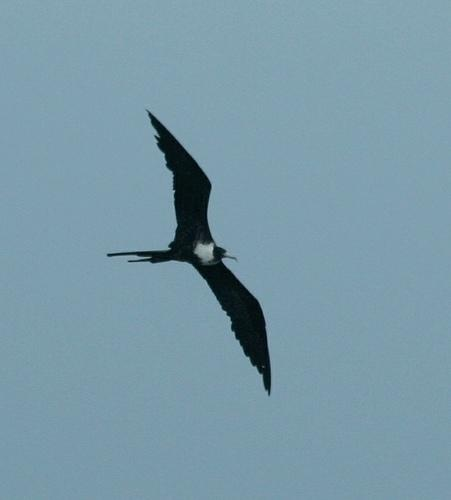bird: (103, 99, 273, 397)
